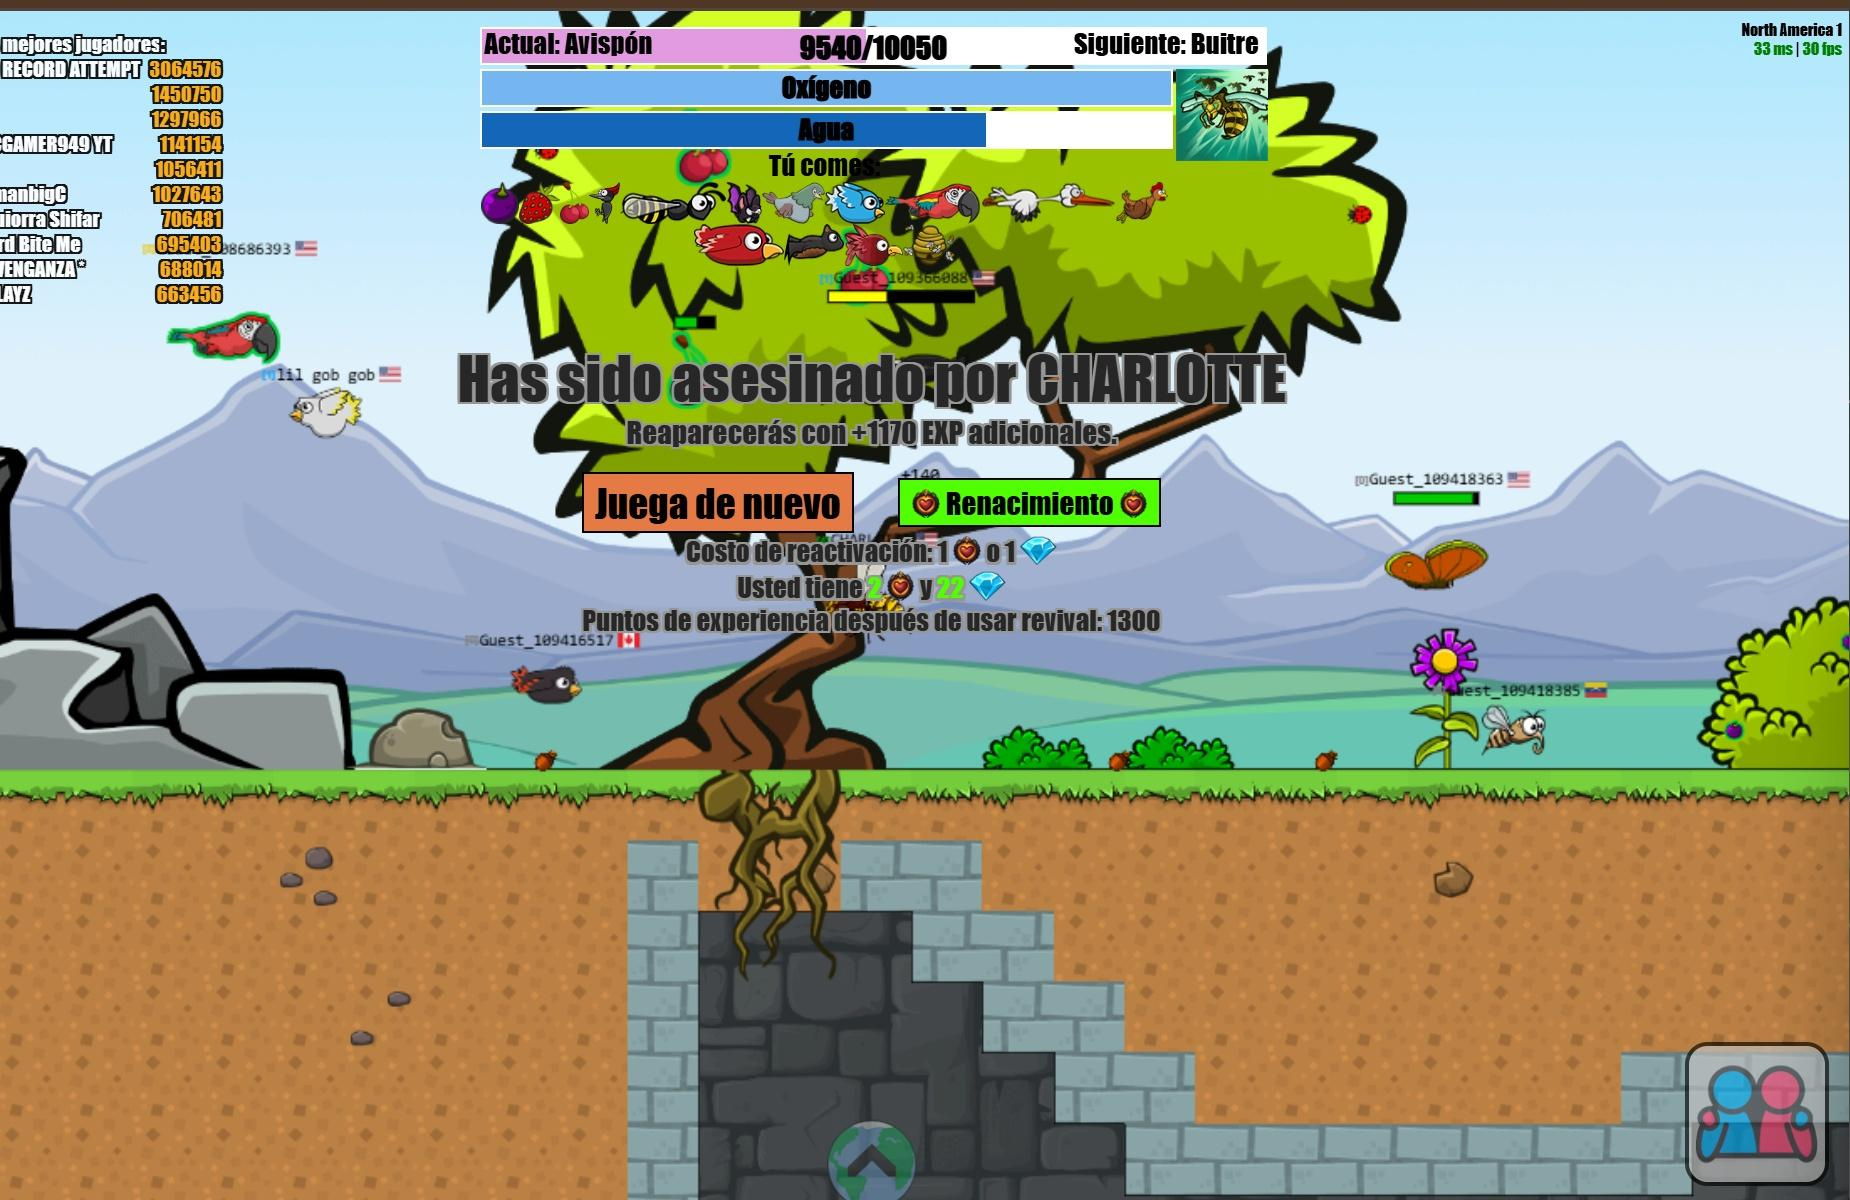arandano: (481, 181, 519, 229), (1721, 715, 1746, 743), (1834, 626, 1850, 655)
arbusto: (1699, 597, 1850, 769)
avellana: (531, 748, 561, 769), (1107, 747, 1133, 770), (1312, 748, 1339, 769)
avispa: (624, 183, 732, 225)
ciguenia: (986, 182, 1116, 222)
enjambre: (909, 224, 956, 267)
flor: (1409, 628, 1483, 696)
fresa: (520, 186, 556, 228)
gallina: (1118, 182, 1169, 224)
gaviota: (291, 388, 363, 440)
guinda: (678, 148, 732, 181), (564, 181, 587, 232)
loro: (167, 311, 283, 367), (886, 179, 980, 225)
mariposa: (1385, 537, 1489, 589)
mariquita: (1346, 196, 1373, 231)
mirlo: (511, 665, 581, 705)
mosquito: (1475, 707, 1547, 755)
murcielago: (787, 224, 843, 267)
p_azul: (829, 181, 886, 220)
p_carpintero: (592, 181, 619, 224)
p_marron: (847, 229, 899, 264)
p_rojo: (700, 229, 783, 267)
paloma: (760, 178, 828, 221)
raiz: (704, 766, 839, 971)
vampiro: (729, 178, 763, 221)
